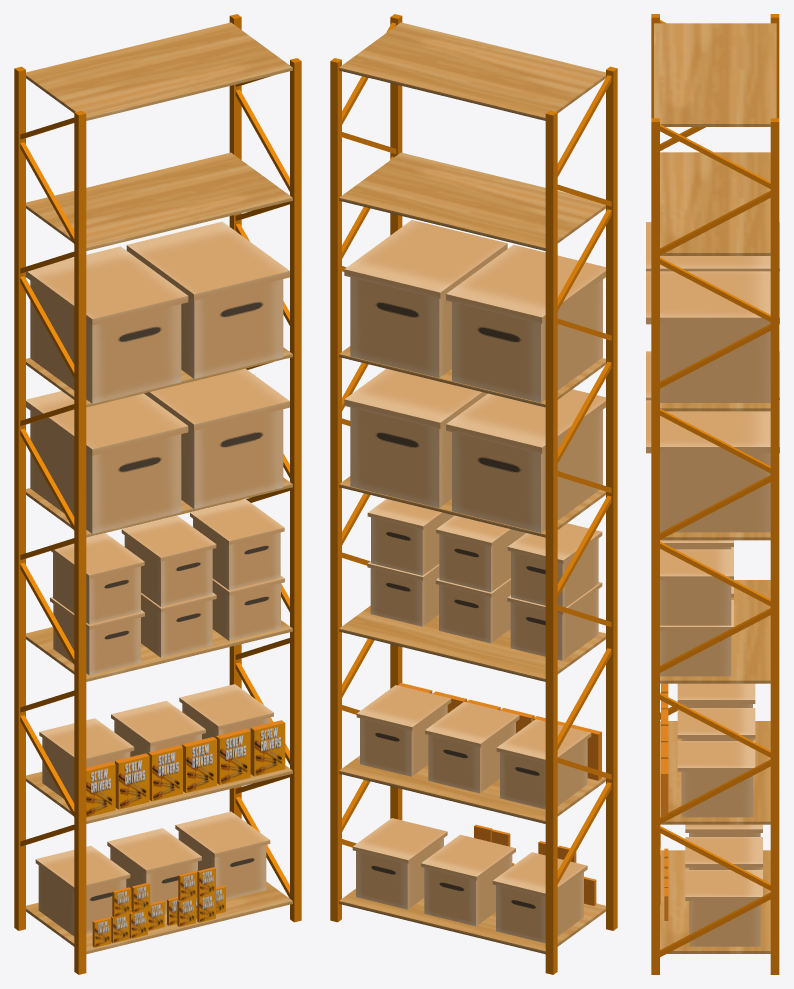
Rendered from ScrewDriver_Rack.fbx.
The picture shows the model from 3 angles, left to right: view 1: azimuth 30°, elevation 25°; view 2: azimuth 150°, elevation 25°; view 3: azimuth 270°, elevation 25°; orthographic projection.
Parts seen in each view (by area): view 1: Screw_Driver_Rack; view 2: Screw_Driver_Rack; view 3: Screw_Driver_Rack.
Boxes of the visible parts, left/top/right/bottom form: Screw_Driver_Rack: left=14, top=14, right=301, bottom=974; Screw_Driver_Rack: left=330, top=14, right=617, bottom=974; Screw_Driver_Rack: left=646, top=14, right=779, bottom=974.
Size of the model in its own units: 2 by 7.37 by 1.05.
